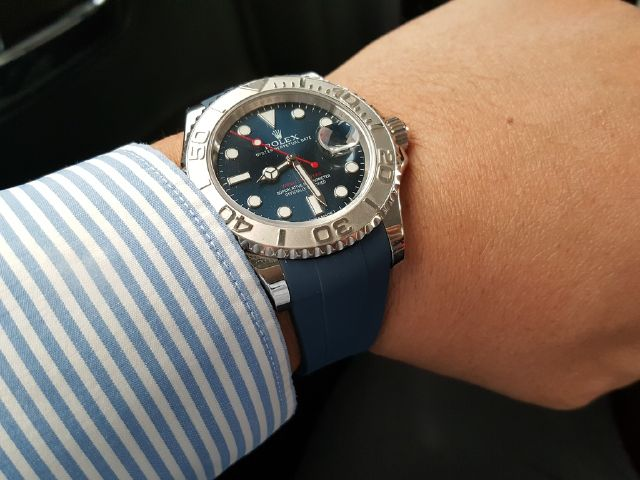clock: (212, 101, 366, 222)
